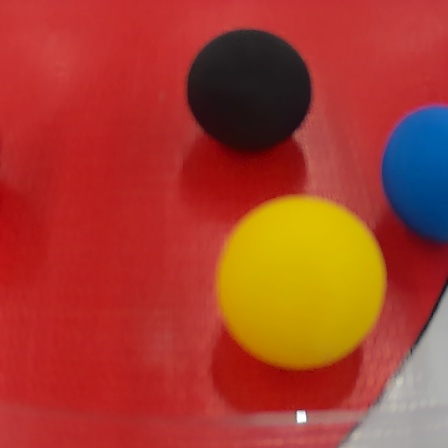black: (187, 25, 318, 152)
blue: (383, 104, 448, 246)
red_base: (1, 1, 448, 446)
yellow: (214, 192, 389, 371)
